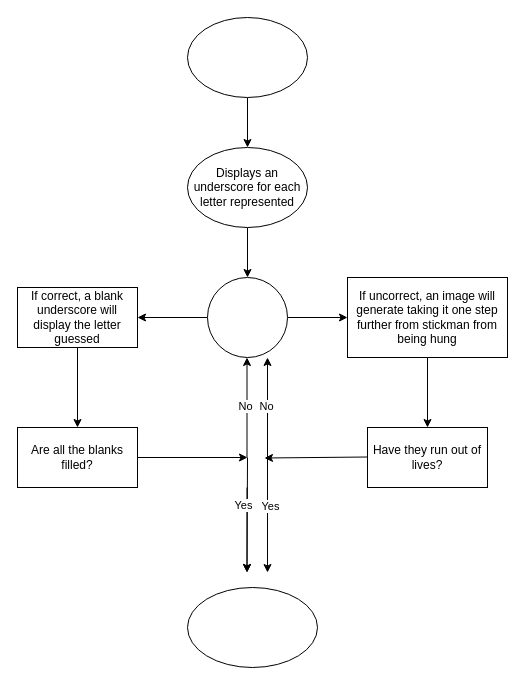
The diagram is 525 pixels wide and 685 high, and some of its shapes have lost their labels. Here are the shapes that lost their labels. From the top down, the box of each, then its label:
(186, 16, 308, 98): Program generates a random word
(206, 276, 288, 358): User guesses a letter
(186, 586, 318, 668): Game over
